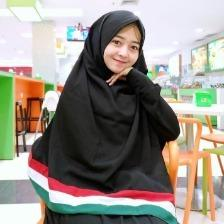HijabSyar-i: (24, 4, 178, 224)
